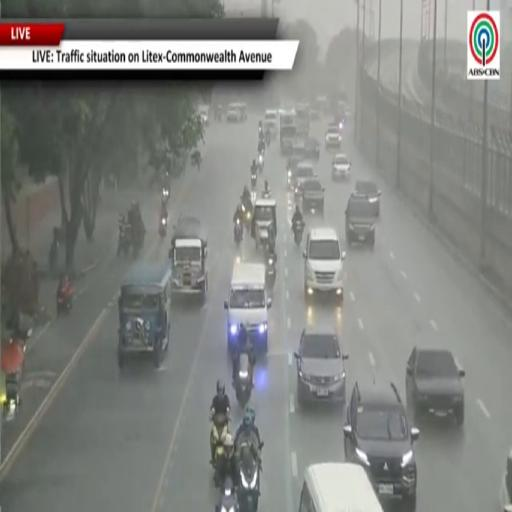car: (343, 379, 419, 511), (406, 347, 464, 425), (294, 328, 348, 405), (303, 228, 345, 302), (345, 196, 377, 247), (352, 181, 381, 216), (291, 160, 316, 200), (300, 179, 324, 216), (499, 450, 511, 511), (288, 141, 306, 178), (331, 153, 350, 181), (264, 109, 278, 139), (325, 125, 342, 149), (304, 137, 320, 161), (227, 103, 247, 122), (315, 95, 328, 114), (198, 105, 209, 126), (310, 107, 320, 121)
jeepney: (118, 263, 171, 367)
motorcycle: (238, 443, 263, 511), (210, 411, 229, 478), (234, 352, 253, 408), (218, 477, 239, 511), (57, 283, 74, 314), (131, 221, 145, 258), (117, 223, 130, 257), (49, 238, 59, 273), (241, 201, 253, 230), (266, 255, 276, 287), (293, 221, 304, 246), (234, 219, 243, 246), (159, 217, 167, 237), (161, 186, 169, 205), (257, 152, 264, 173), (251, 172, 257, 188), (262, 190, 271, 199), (265, 132, 270, 147)
truck: (170, 216, 208, 300), (280, 110, 297, 154), (295, 104, 311, 138)
